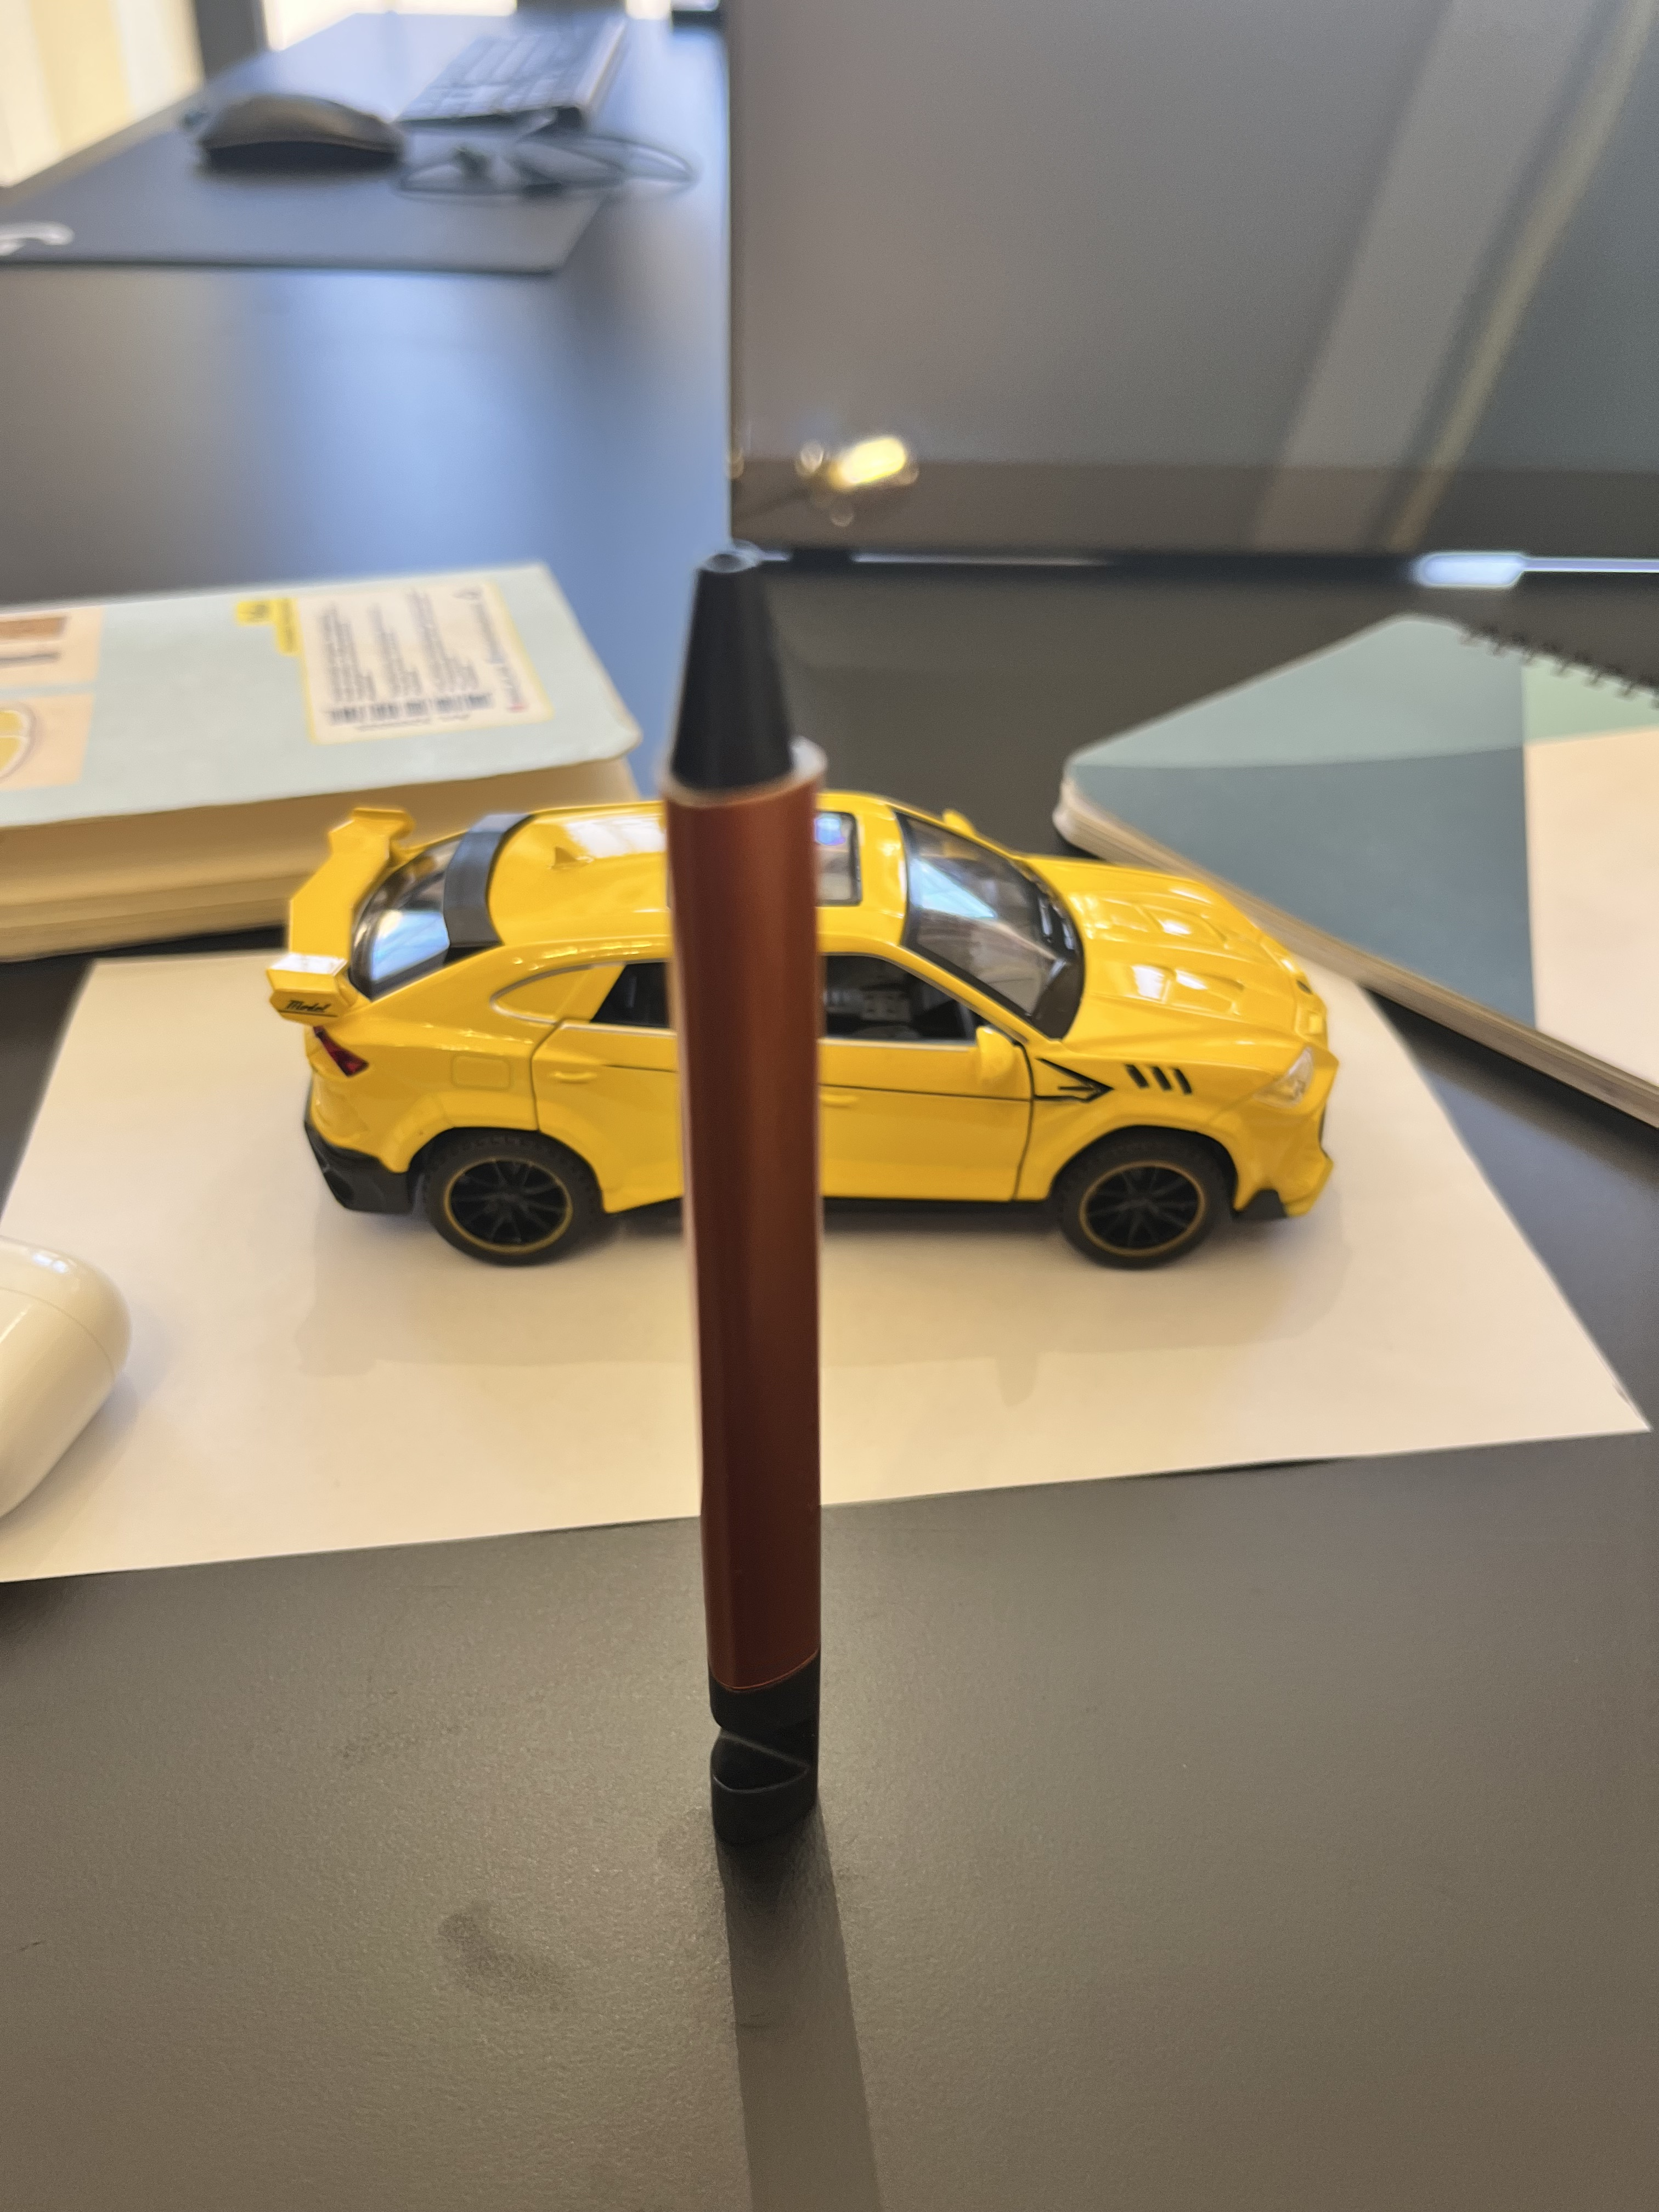lambo: (263, 803, 1337, 1271)
